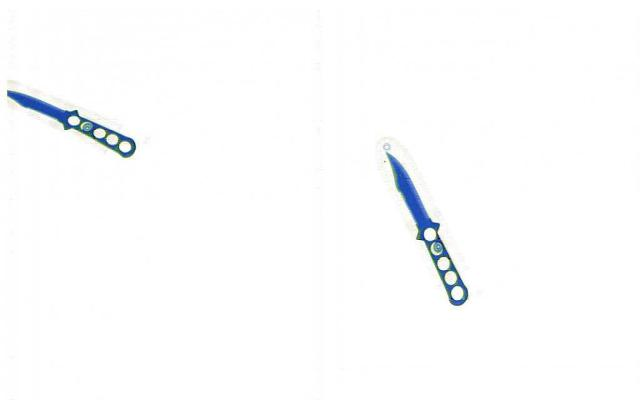Knife: (373, 150, 477, 304), (0, 84, 146, 158)
